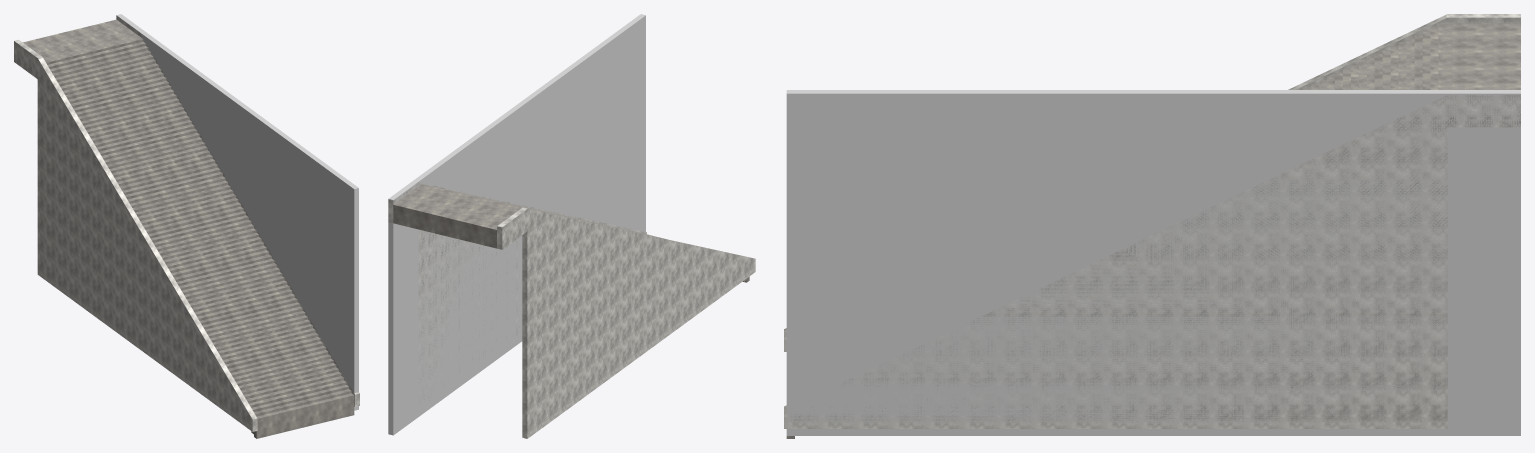
The model's file is stone_stairs_14.glb.
3 renders of one model, left to right at view 1: azimuth 30°, elevation 25°; view 2: azimuth 150°, elevation 25°; view 3: azimuth 270°, elevation 25°, orthographic. The views are drawn at different scales.
Visible parts, largest first — view 1: StairSteps, StairCheeks, StairWall-convcolonly.001; view 2: StairWall-convcolonly.001, StairCheeks, StairSteps; view 3: StairWall-convcolonly.001, StairCheeks, StairSteps.
Boxes of the visible parts, x1,y1,x2,y2 form: StairSteps: [23, 19, 354, 438]; StairCheeks: [14, 16, 359, 431]; StairWall-convcolonly.001: [116, 14, 358, 410]; StairWall-convcolonly.001: [388, 14, 645, 435]; StairCheeks: [388, 182, 755, 438]; StairSteps: [393, 184, 749, 282]; StairWall-convcolonly.001: [786, 90, 1520, 435]; StairCheeks: [784, 14, 1520, 428]; StairSteps: [786, 23, 1520, 438].
Size of what is drawn, in the model's own units: 7.7 by 15.5 by 29.66.
Materials: 2 (2 with a texture image).
